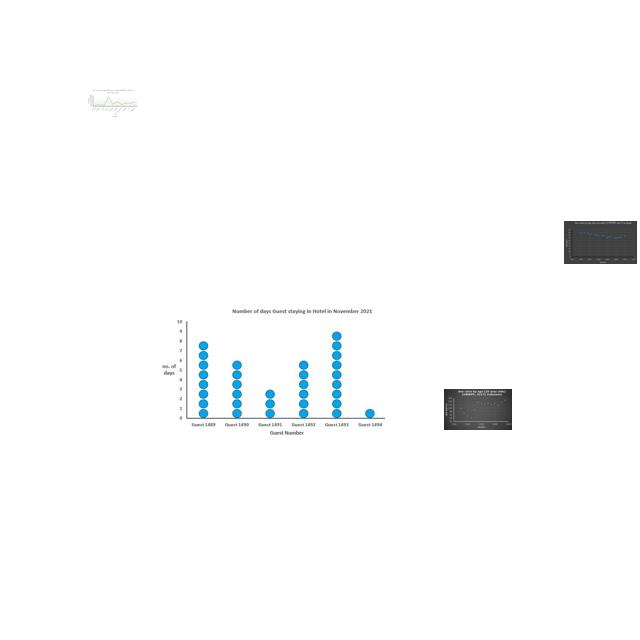Graph: (159, 306, 385, 439), (564, 221, 637, 264), (444, 389, 512, 430), (87, 88, 138, 118)
